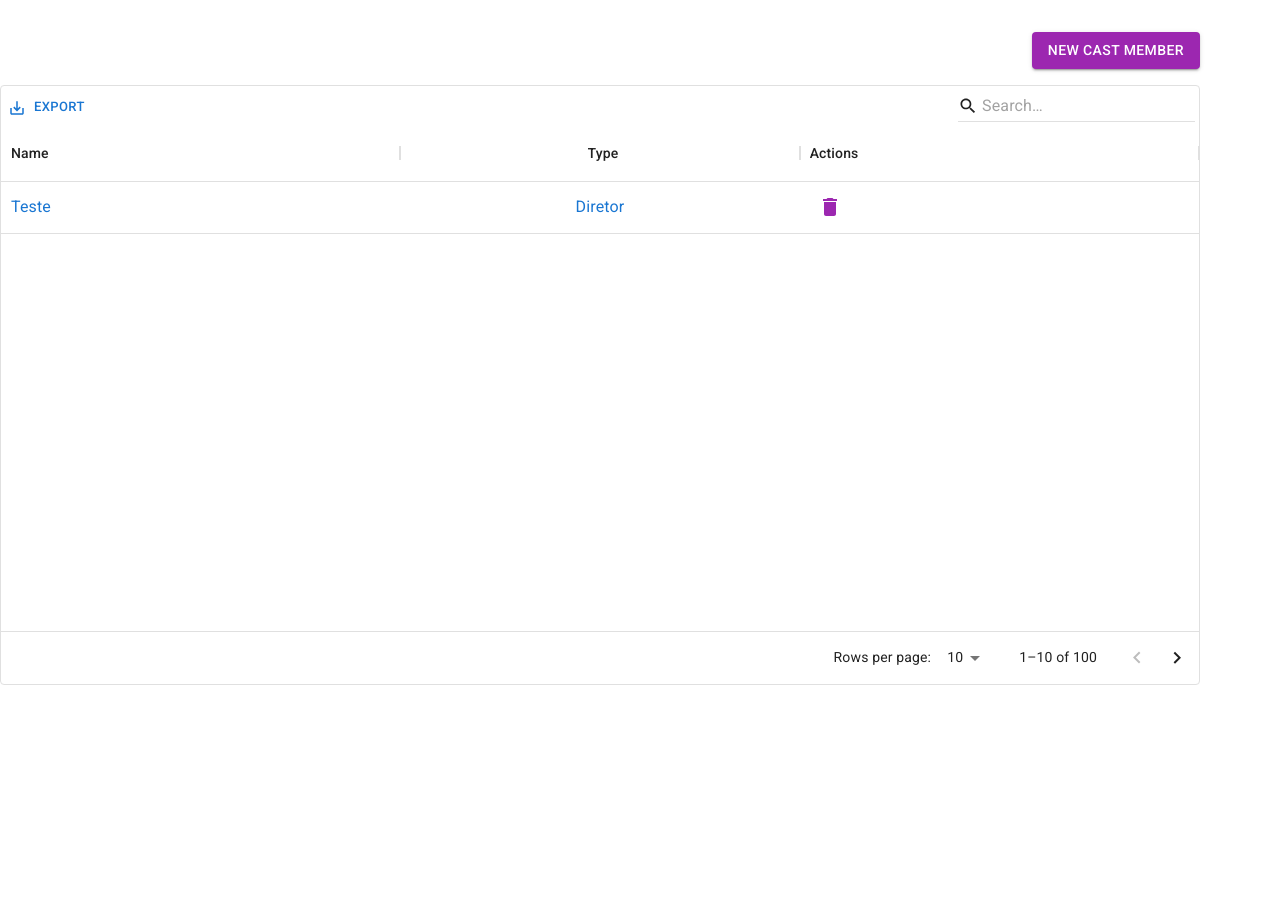
Test: ListCastMembers › should handle Delete CastMember error
Expected: the text "Teste" is shown, [11,195,51,219]
Step 1. Click the button with test id "delete-button" → (830, 207), box [810,187,850,227]
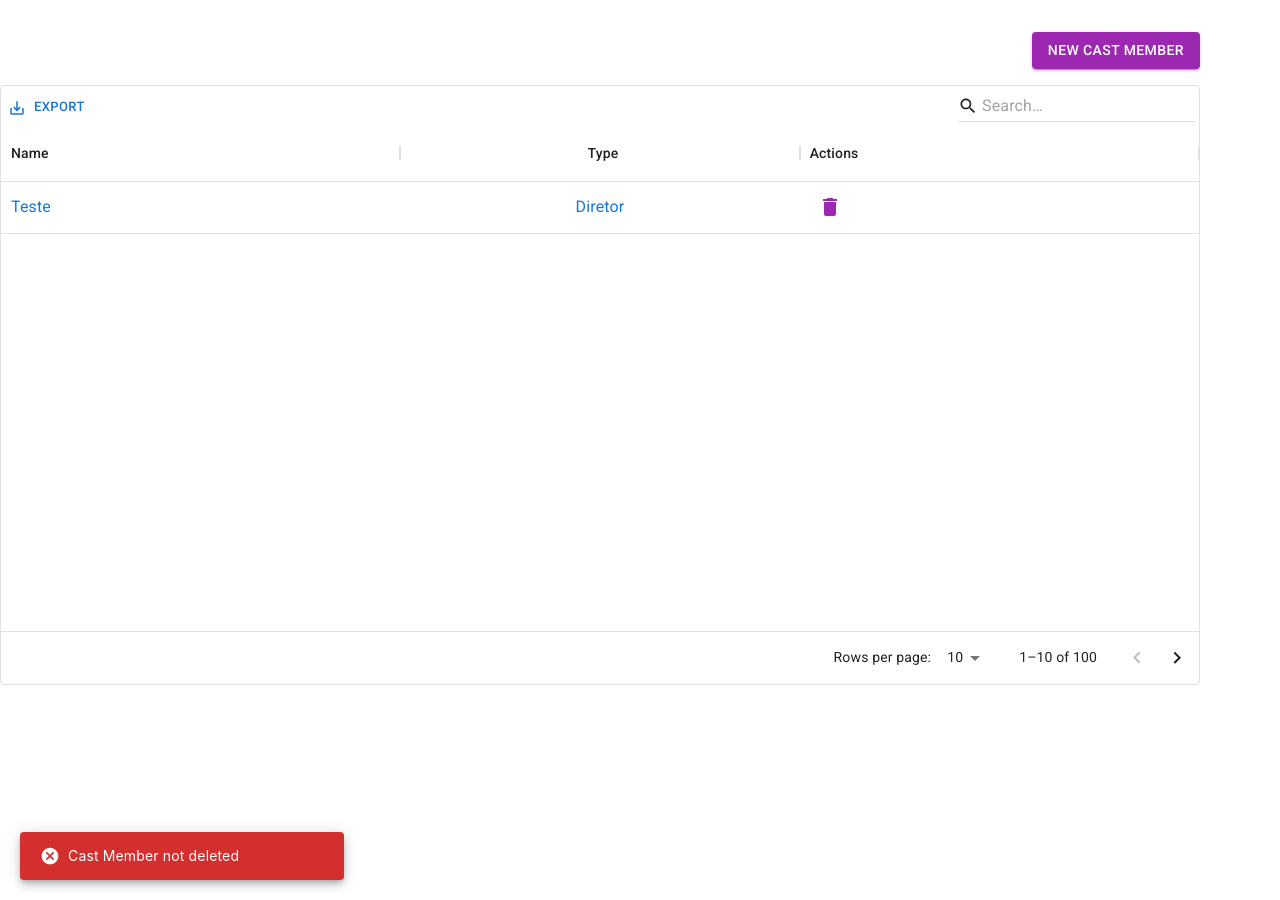
Expected: the text "Cast Member not deleted" is shown, [40,846,239,866]
